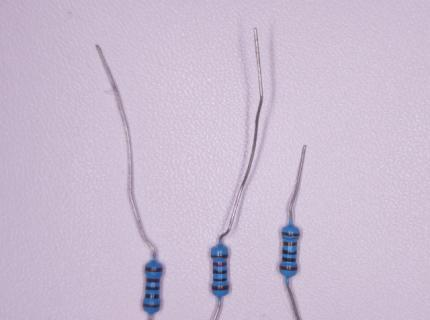Black band: (145, 294, 160, 299), (282, 257, 296, 262), (282, 250, 297, 254), (146, 287, 160, 290)
Brown band: (281, 232, 300, 237), (279, 267, 298, 271), (145, 268, 163, 272), (146, 278, 160, 283), (283, 241, 297, 246), (143, 304, 160, 308)
